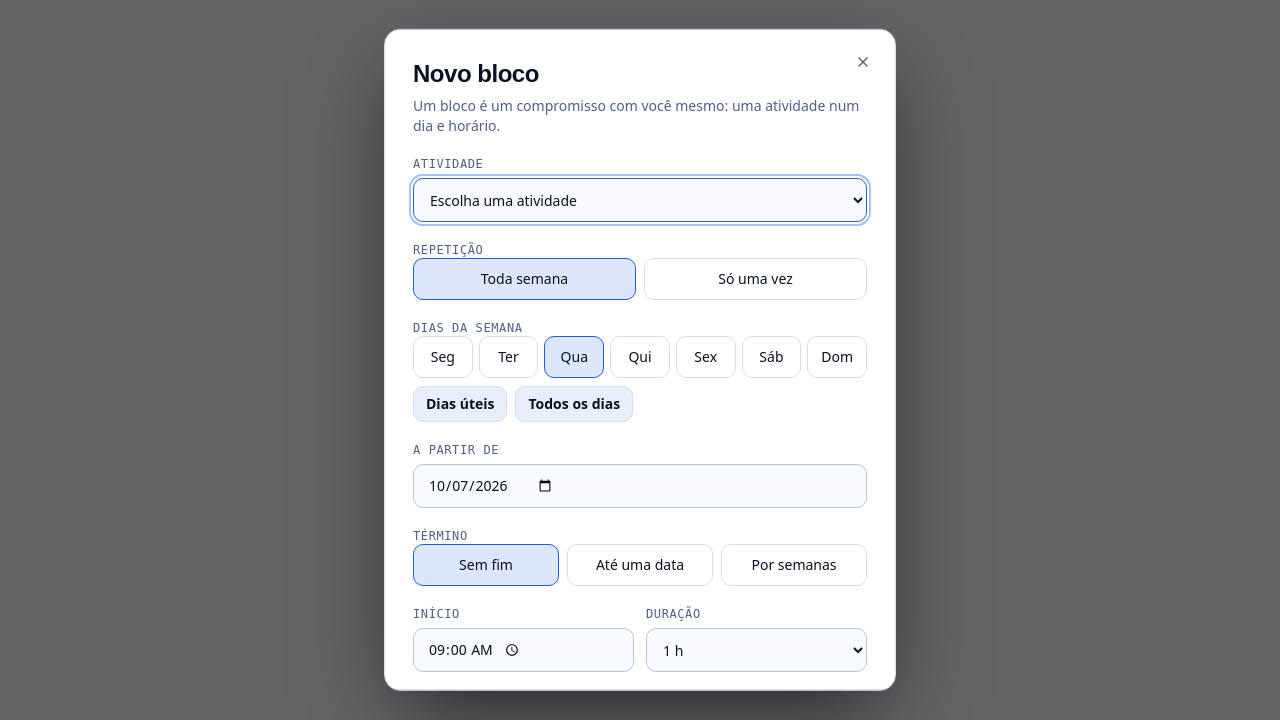
Test: BlockFormDialog › depois que a pessoa escolhe uma data própria, trocar o dia não a sobrescreve
Expected: the dropdown labelled "Atividade" is shown, [413,178,867,222]
Type "2026-11-02" into the date field labelled "A partir de". click: (640, 486)
box: [413,464,867,508]
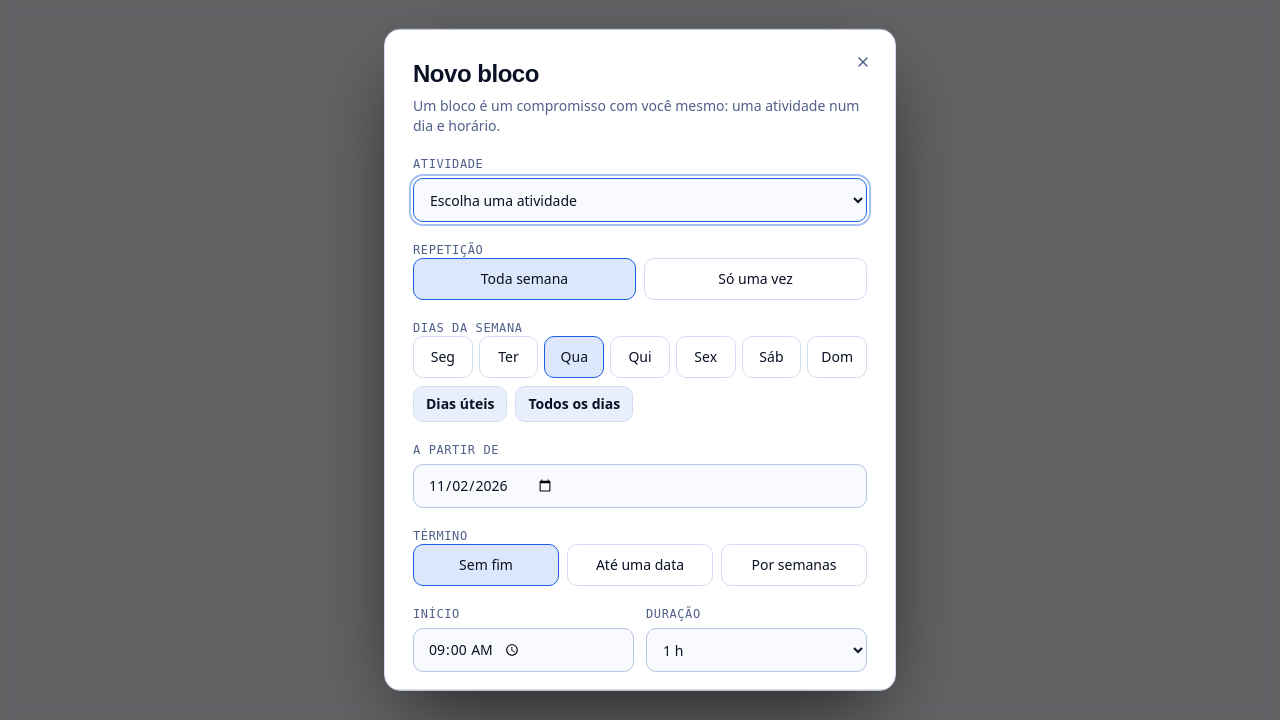
Click the checkbox named "Quarta-feira". click: (574, 357)
box: [544,336,604,378]
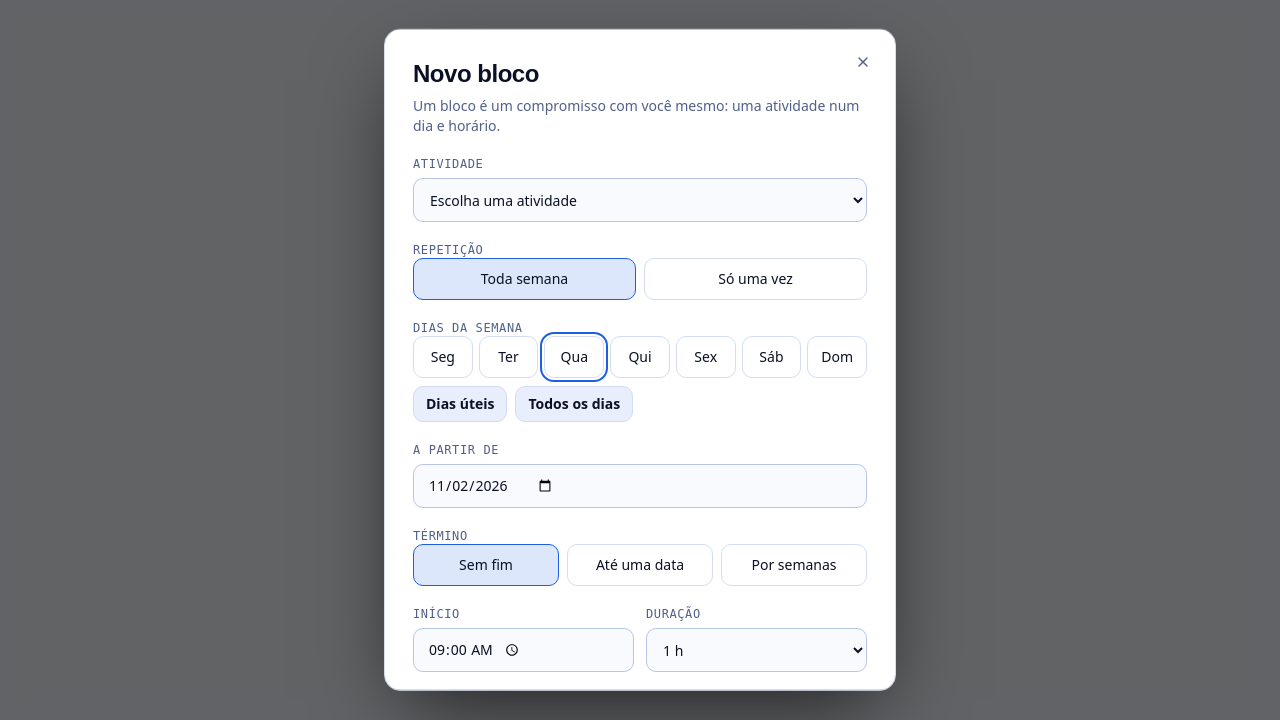
Click the checkbox named "Sexta-feira". click: (706, 357)
box: [676,336,736,378]
(page scrolled)
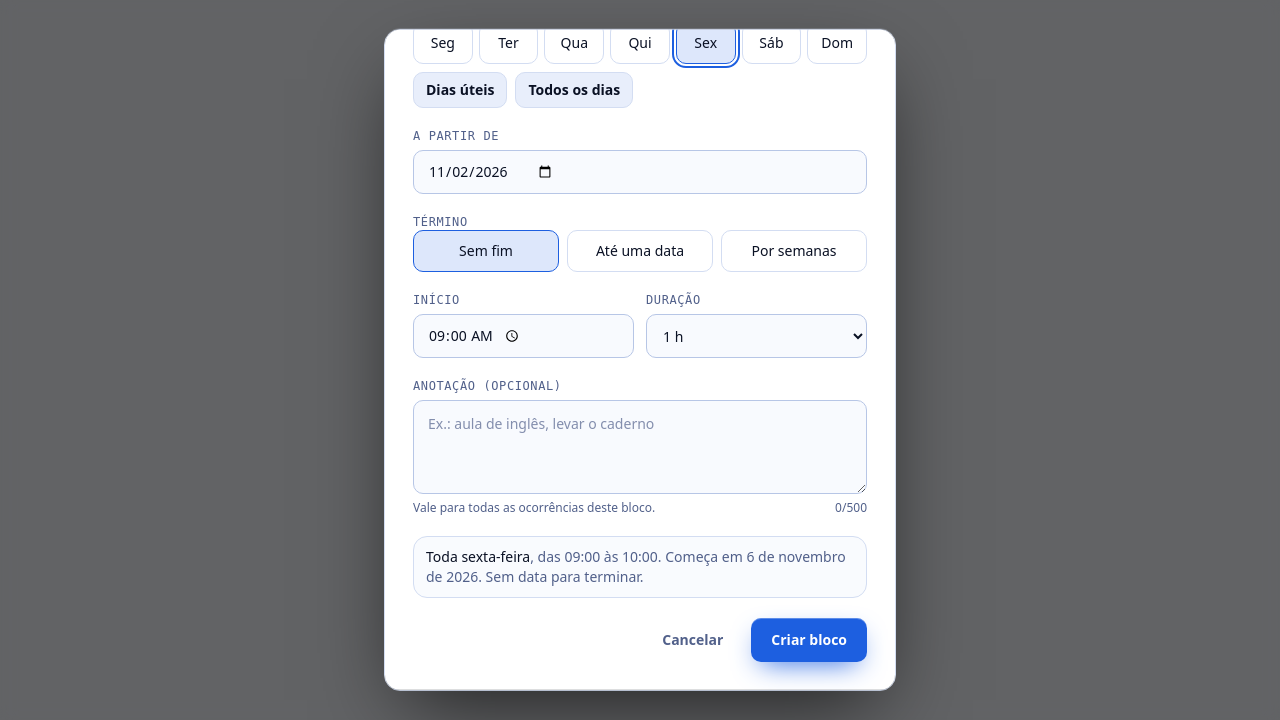
Expected: the element with test id "block-summary" shows "Começa em 6 de novembro de 2026.", [426,547,846,586]
